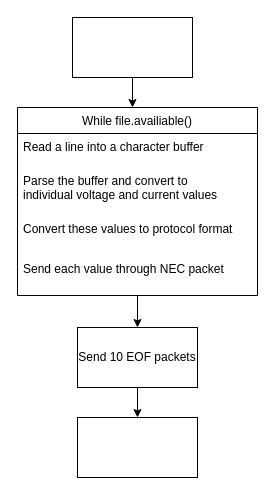
Image size: 275x495. Some labels were removed from this diagram. The centre of each missing label's shape, as x and y in pixels:
Open SD data file: (132,47)
Return to Record Data State: (137,447)
